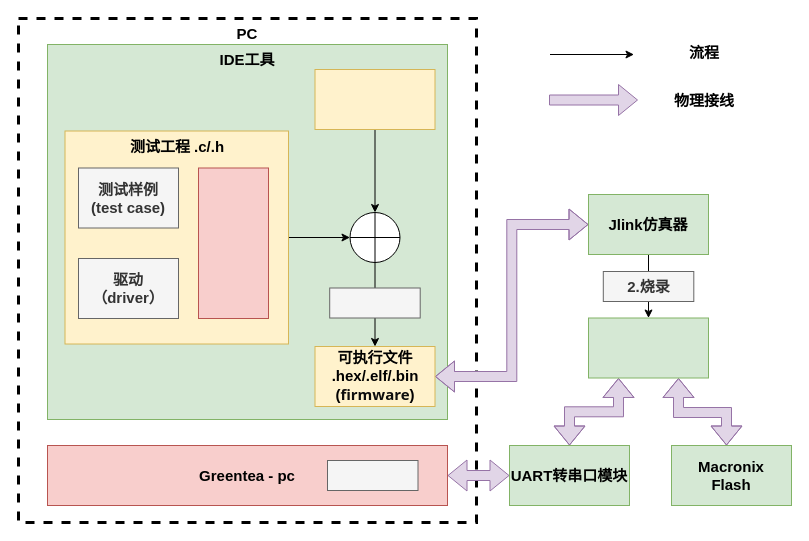
The diagram is 809 pixels wide and 541 high, and some of its shapes have lost their labels. The centre of each missing label's shape, as x and y in pixels:
"1.编译，链接" goes at [374,302].
"3.收集报告" goes at [372,475].
"Greentea" goes at [233,242].
"瑞萨 RA系列MCU" goes at [648,347].
"编译器，链接器" goes at [374,99].
